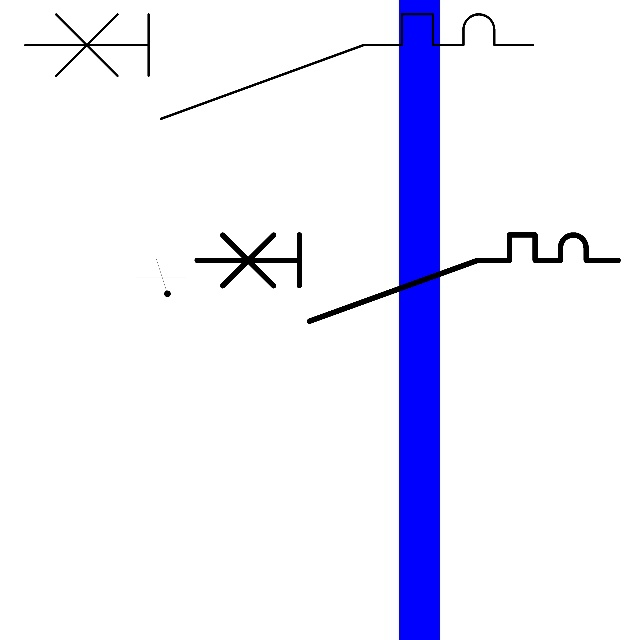interruptor_termomagnetico: (12, 1, 546, 131), (186, 224, 629, 332)
